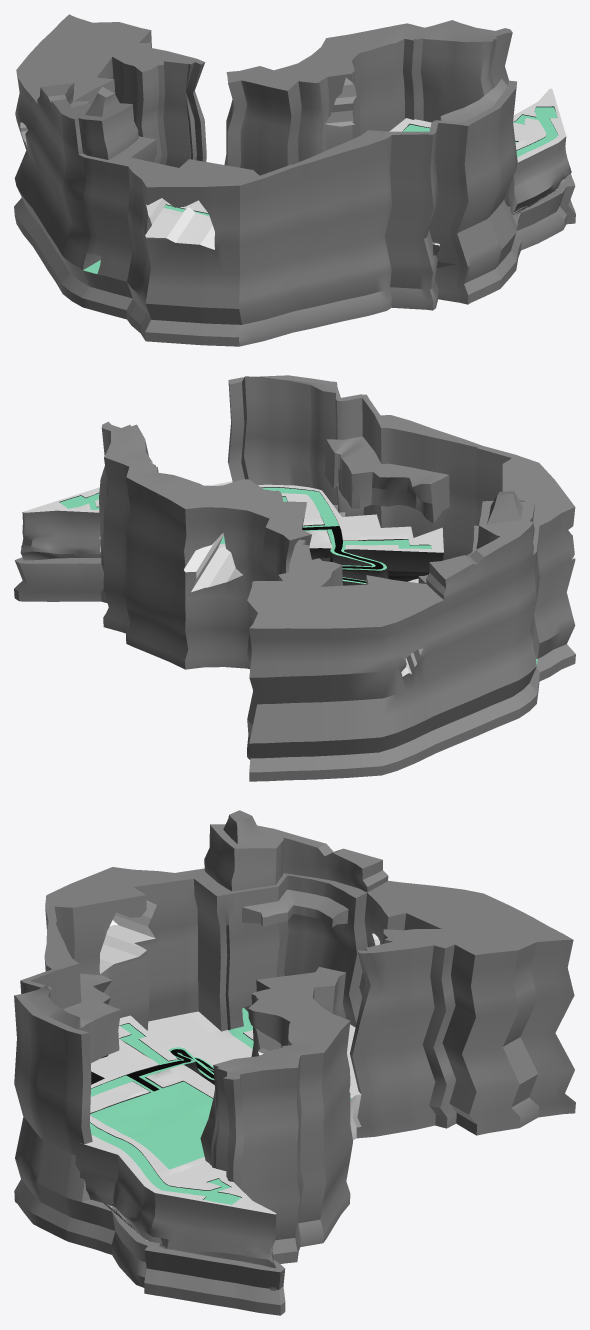
Rendered from monastarywithholes.fbx.
The picture shows the model from 3 angles, top to bottom: view 1: azimuth 30°, elevation 25°; view 2: azimuth 150°, elevation 25°; view 3: azimuth 270°, elevation 25°; orthographic projection. The views are drawn at different scales.
Parts seen in each view (by area): view 1: Monestary; view 2: Monestary; view 3: Monestary.
Part boxes in pixels (x1,y1,x2,y2): Monestary: (14,14,575,346); Monestary: (14,375,575,781); Monestary: (14,810,575,1315).
Bounding box in the file's own units: 91730 × 36540 × 77722.
